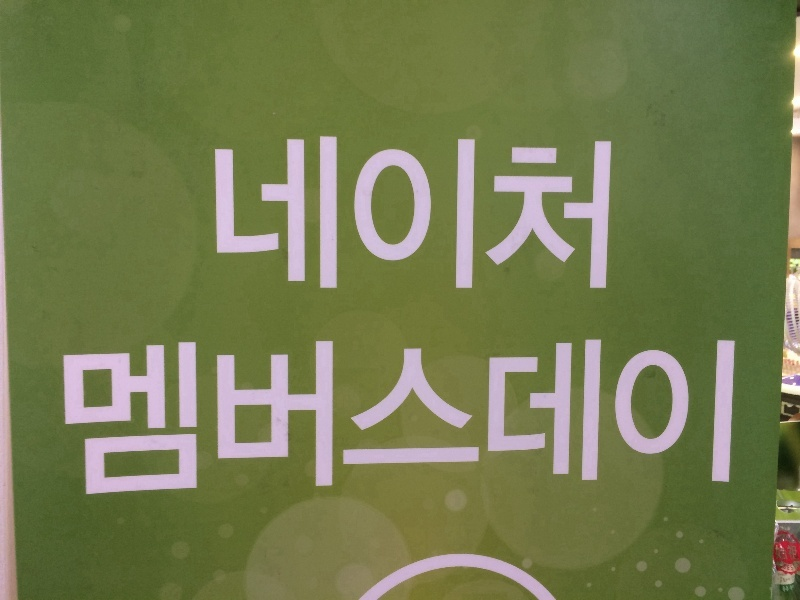text: (65, 336, 80, 499), (81, 336, 96, 499), (97, 336, 112, 499), (113, 336, 128, 499), (129, 336, 144, 499), (145, 336, 160, 499), (161, 336, 176, 499), (177, 336, 192, 499), (193, 336, 208, 499), (209, 336, 224, 499), (225, 336, 240, 499), (241, 336, 256, 499), (257, 336, 272, 499), (273, 336, 288, 499), (289, 336, 304, 499), (305, 336, 320, 499), (321, 336, 336, 499), (337, 336, 352, 499), (353, 336, 368, 499), (369, 336, 384, 499), (385, 336, 400, 499), (401, 336, 416, 499), (417, 336, 432, 499), (433, 336, 448, 499), (449, 336, 464, 499), (465, 336, 480, 499), (481, 336, 496, 499), (497, 336, 512, 499), (513, 336, 528, 499), (529, 336, 544, 499), (545, 336, 560, 499), (561, 336, 576, 499), (577, 336, 592, 499), (593, 336, 608, 499), (609, 336, 624, 499), (625, 336, 640, 499), (641, 336, 656, 499), (657, 336, 672, 499), (673, 336, 688, 499), (689, 336, 704, 499), (705, 336, 720, 499), (721, 336, 736, 499), (225, 135, 240, 294), (241, 135, 256, 294), (257, 135, 272, 294), (273, 135, 288, 294), (289, 135, 304, 294), (305, 135, 320, 294), (321, 135, 336, 294), (337, 135, 352, 294), (353, 135, 368, 294), (369, 135, 384, 294), (385, 135, 400, 294), (401, 135, 416, 294), (417, 135, 432, 294), (433, 135, 448, 294), (449, 135, 464, 294), (465, 135, 480, 294), (481, 135, 496, 294), (497, 135, 512, 294), (513, 135, 528, 294), (529, 135, 544, 294), (545, 135, 560, 294), (561, 135, 576, 294), (577, 135, 592, 294), (593, 135, 608, 294), (53, 336, 64, 499), (213, 135, 224, 294), (609, 135, 614, 294), (785, 545, 800, 563), (774, 545, 784, 563), (737, 336, 738, 499), (785, 563, 797, 572), (782, 563, 784, 572)
